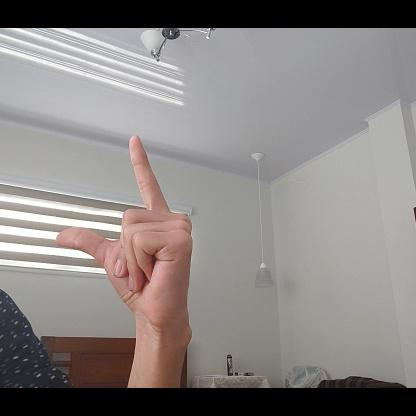L: (53, 133, 194, 323)
